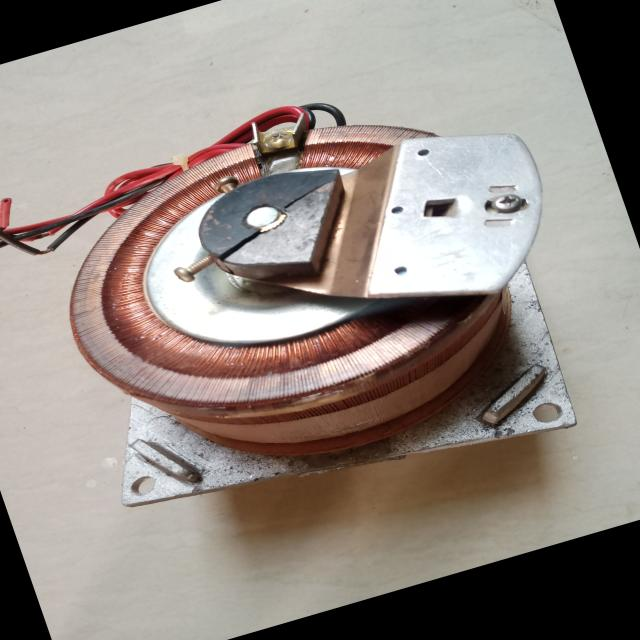AC Transformer: (3, 45, 623, 521)
